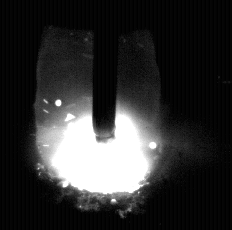arame: (93, 0, 117, 143)
poca: (35, 0, 164, 230)
